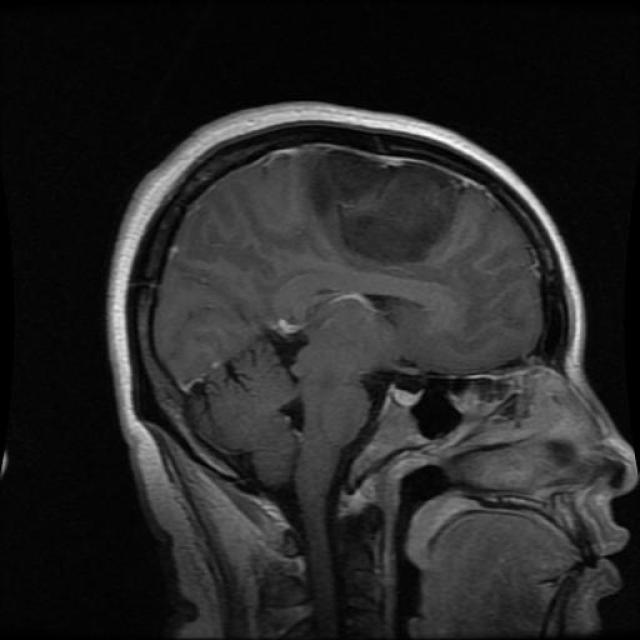glioma: (325, 145, 453, 272)
